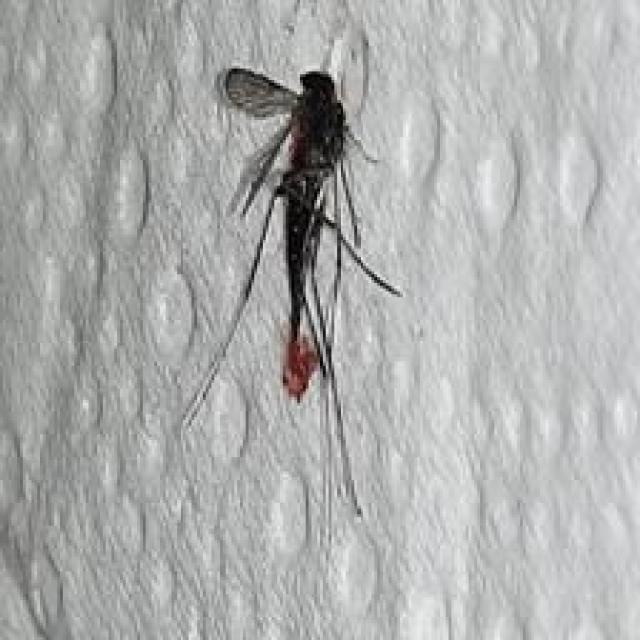Aedes albopictus: (176, 23, 404, 520)
